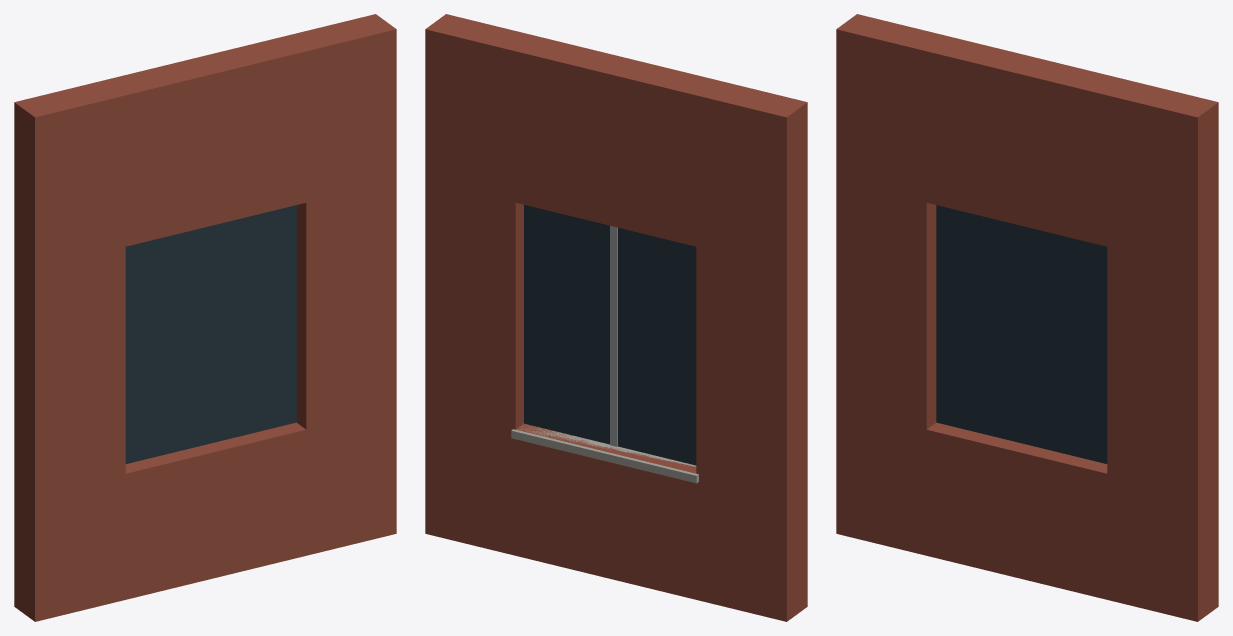
File: fk_window_g40.glb
3 renders of one model, left to right at view 1: azimuth 30°, elevation 25°; view 2: azimuth 150°, elevation 25°; view 3: azimuth 330°, elevation 25°, orthographic.
Visible parts, largest first — view 1: fk_window_g40-col; view 2: fk_window_g40-col; view 3: fk_window_g40-col.
Part boxes in pixels (left/top/right/bottom): fk_window_g40-col: left=14, top=14, right=396, bottom=621; fk_window_g40-col: left=425, top=14, right=807, bottom=621; fk_window_g40-col: left=836, top=14, right=1218, bottom=621.
Size of the model in its own units: 3 by 4 by 0.33.
